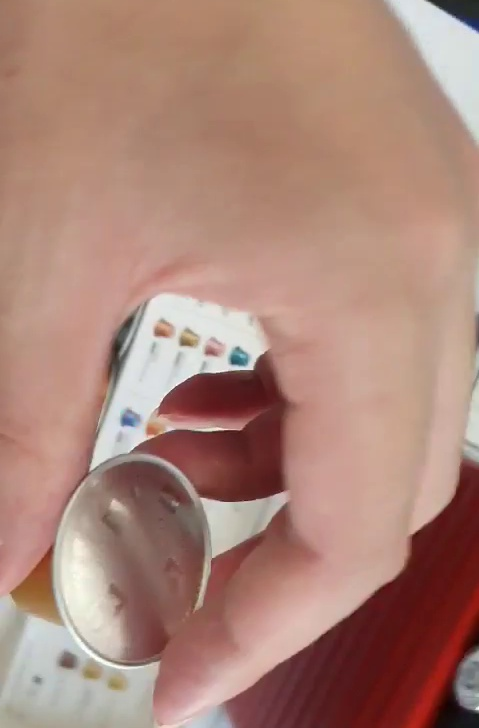capsule_8: (1, 448, 208, 670)
